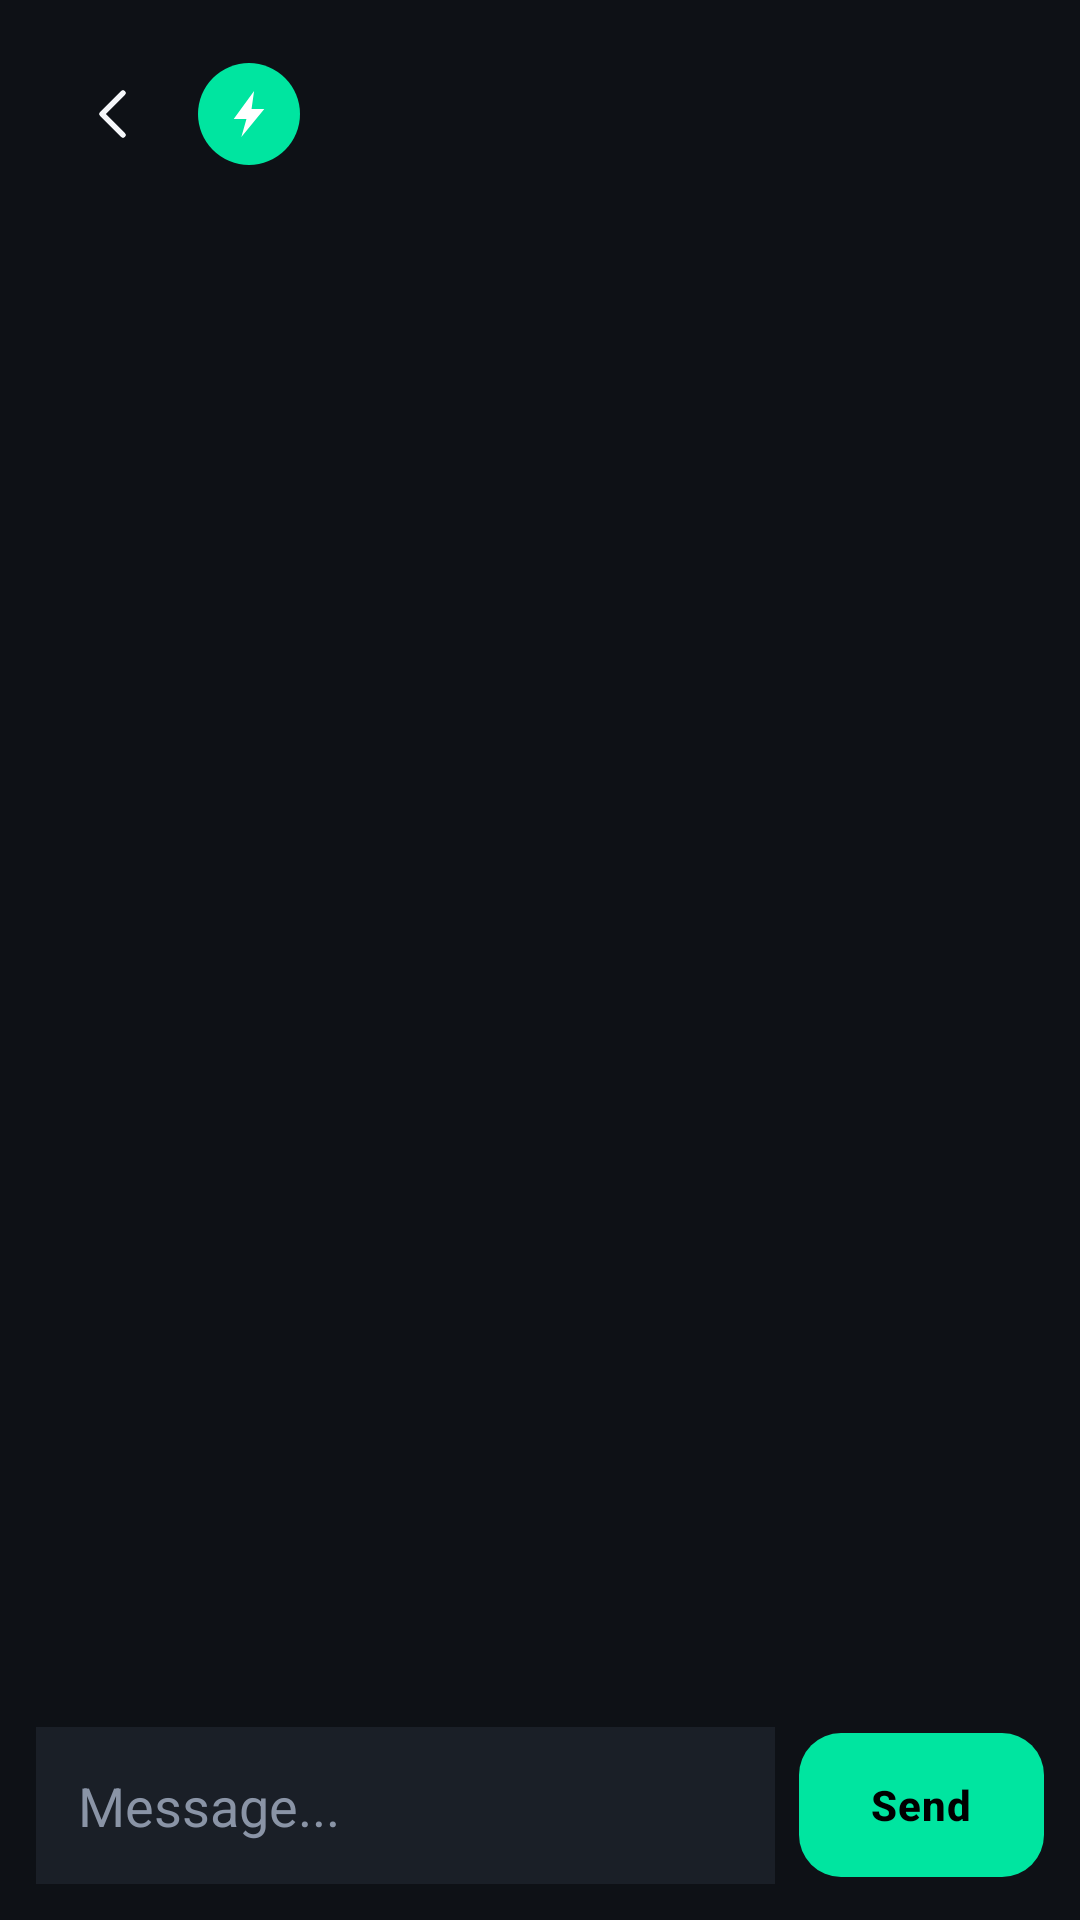

Icons on this 1080 × 1920 Android screen, each with its box as (x1, y1, x2, y2):
back: (99, 90, 126, 138)
